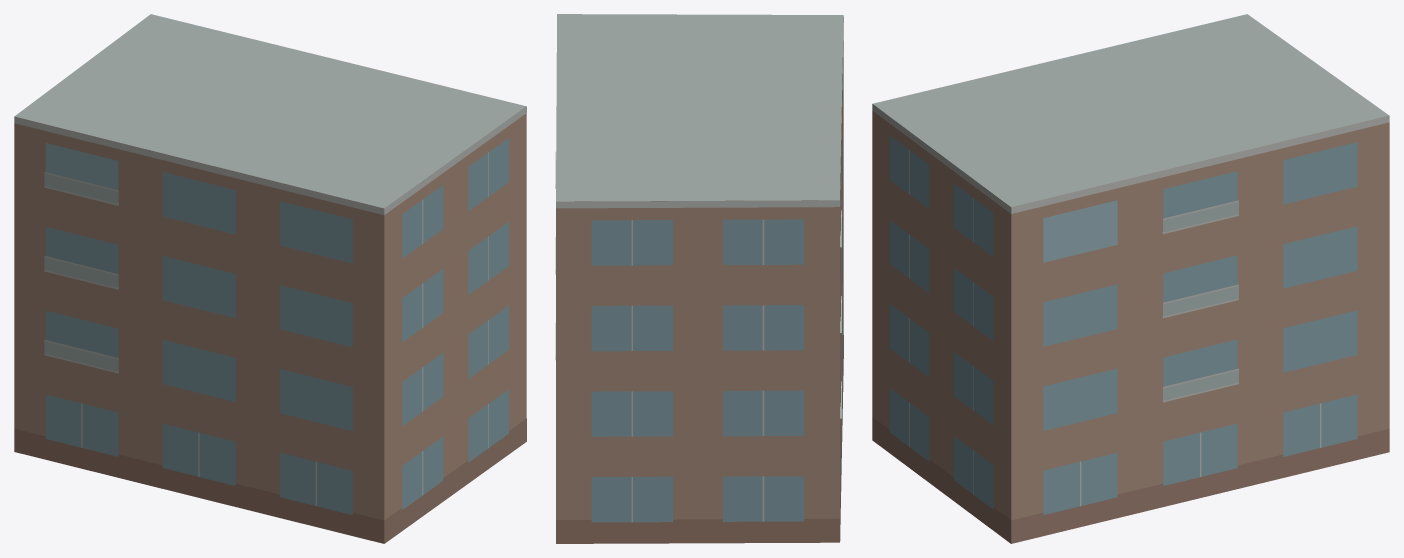
File: survey-upis-32714512.glb
The picture shows the model from 3 angles, left to right: view 1: azimuth 30°, elevation 25°; view 2: azimuth 150°, elevation 25°; view 3: azimuth 270°, elevation 25°; orthographic projection. The views are drawn at different scales.
Parts seen in each view (by area): view 1: survey-upis-32714512.tmp; view 2: survey-upis-32714512.tmp; view 3: survey-upis-32714512.tmp.
Boxes of the visible parts, x1,y1,x2,y2 form: survey-upis-32714512.tmp: (14, 14, 526, 543); survey-upis-32714512.tmp: (555, 14, 843, 543); survey-upis-32714512.tmp: (872, 14, 1389, 543).
Size of the model in its own units: 15.04 by 12.2 by 17.
